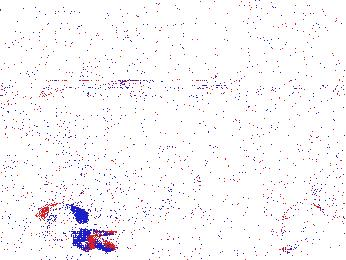flame jellyfish: (37, 201, 118, 254), (274, 202, 330, 255), (18, 96, 69, 150)
